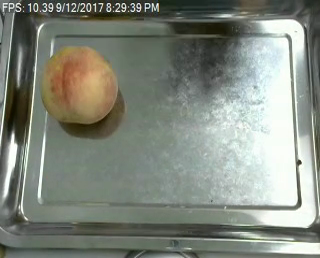Peach: (39, 45, 119, 125)
